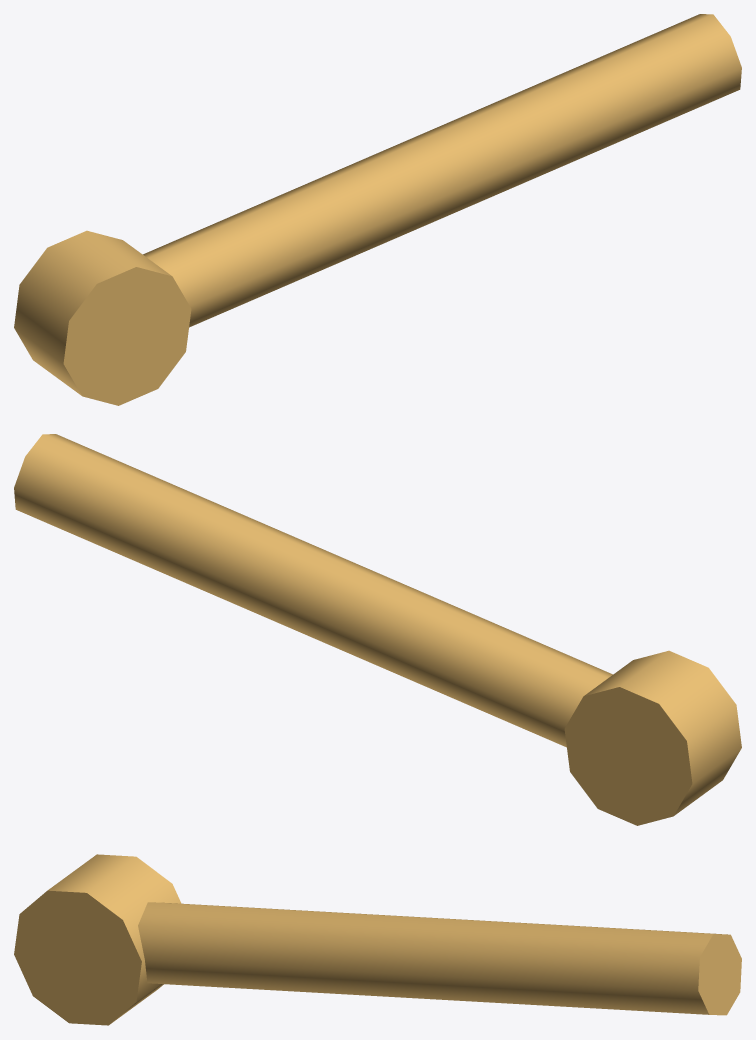
File: ReloaderArm_01.fbx
3 renders of one model, top to bottom at view 1: azimuth 30°, elevation 25°; view 2: azimuth 150°, elevation 25°; view 3: azimuth 330°, elevation 25°, orthographic.
Visible parts, largest first — view 1: pCylinder36; view 2: pCylinder36; view 3: pCylinder36.
Part boxes in pixels (x1,y1,x2,y2): pCylinder36: (14,14,741,405); pCylinder36: (14,434,741,825); pCylinder36: (14,854,741,1025).
Size of the model in its own units: 110 by 33.87 by 13.68.
